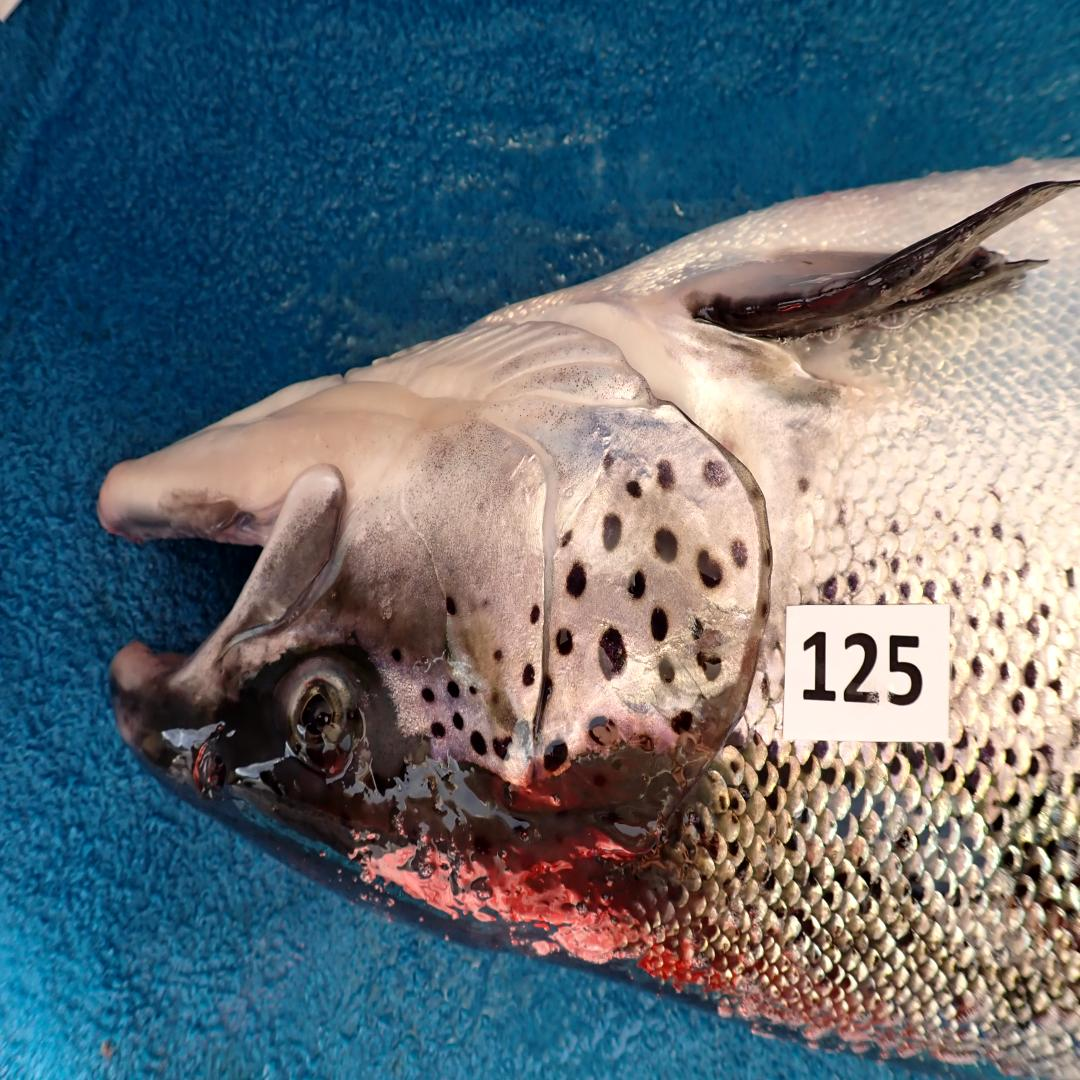roi: (339, 310, 767, 790)
